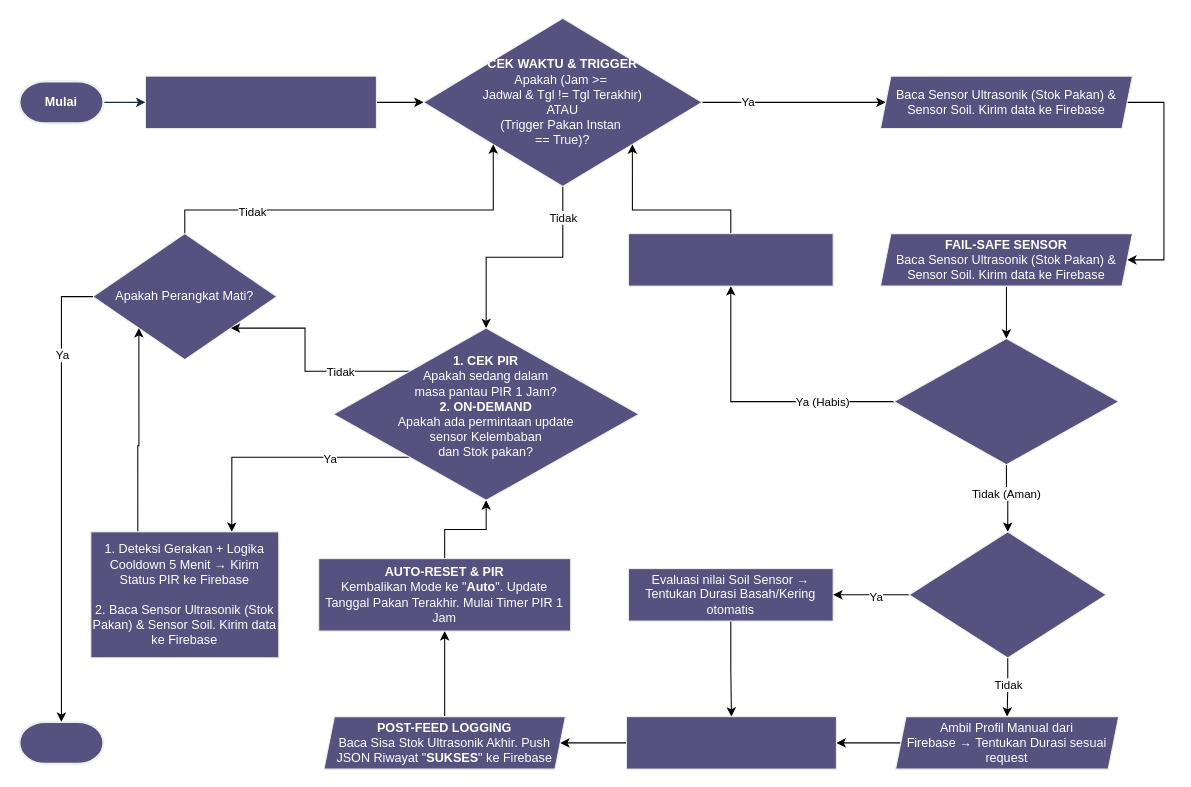
The diagram is 1191 pixels wide and 787 high, and some of its shapes have lost their labels. The shapes that lost their labels are listed below. From the top down, each one's centre as x and y in pixels, then its label:
pixel 260 102: Inisialisasi Setup: Wi-Fi, Pin, PWM, NTP Server, Firebase, & Watchdog Timer
pixel 730 259: Kirim Log Riwayat "GAGAL" , Update Info "Habis" ke Firebase
pixel 1006 401: CEK STOK PAKAN Apakah Jarak Ultrasonik >= Batas Minimum (Kosong)?
pixel 1007 594: Apakah Mode Alat == Auto?
pixel 61 742: Selesai
pixel 730 742: AKTUATOR Nyalakan Motor 1 & 2. Matikan sesuai delay durasi yang terpilih
